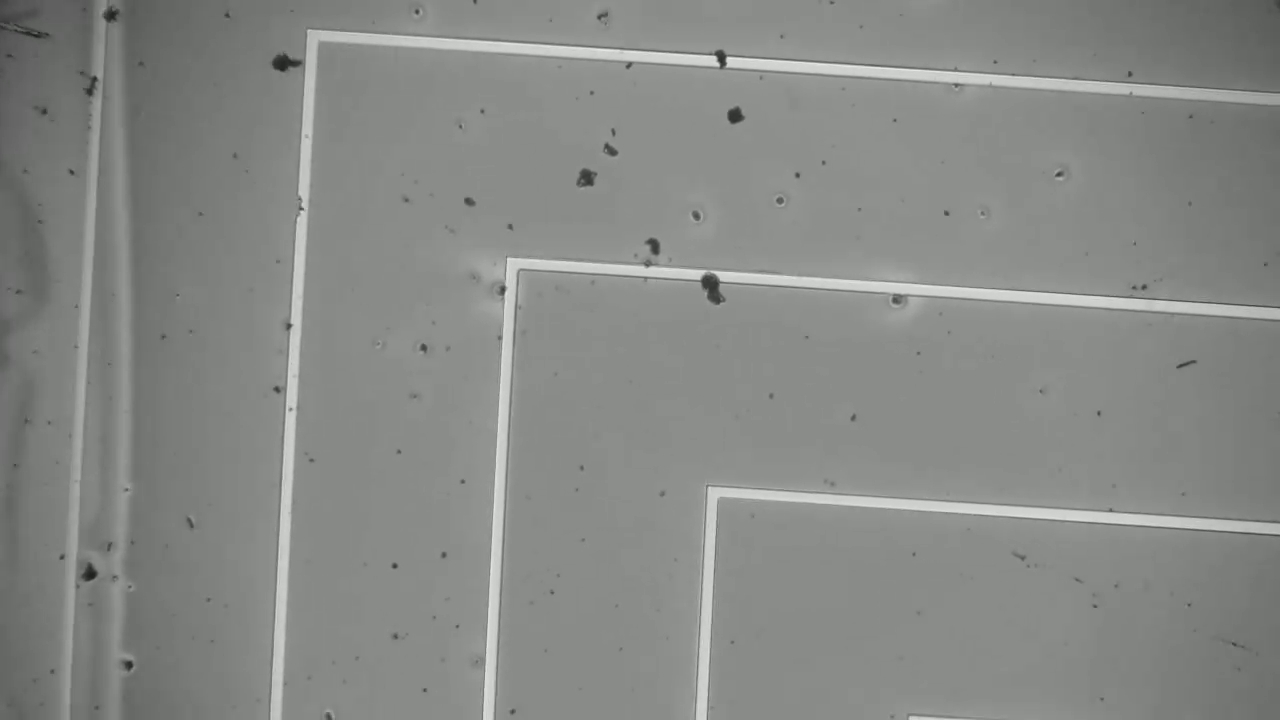edge_bite: (284, 183, 326, 229)
stains_enbedded: (696, 260, 741, 315), (711, 45, 743, 80)
